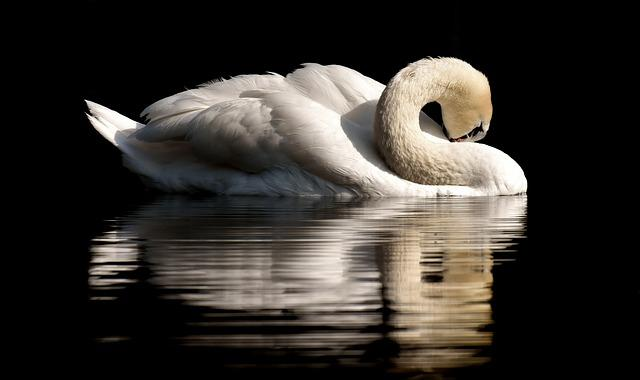bird: (86, 57, 526, 195)
